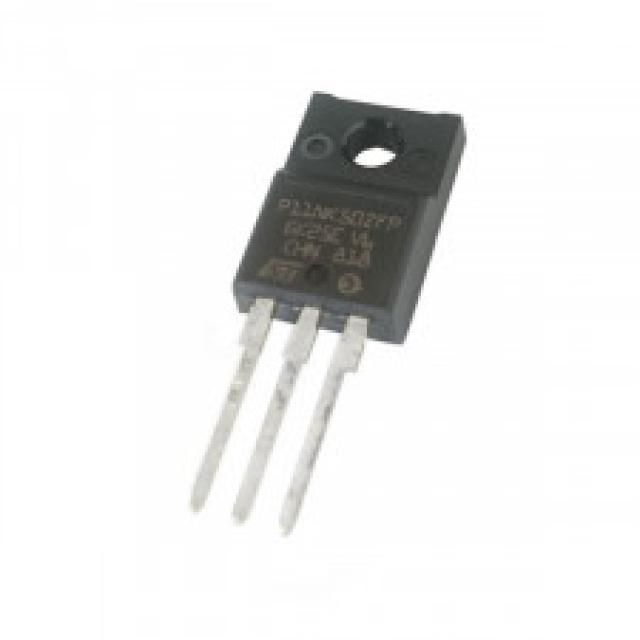Transistor: (189, 91, 462, 540)
